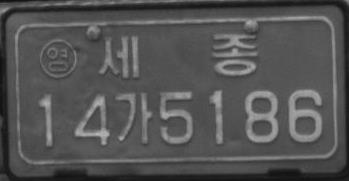1: (203, 88, 233, 145), (34, 92, 63, 148)
4: (72, 92, 112, 146)
5: (158, 89, 194, 146)
6: (287, 88, 323, 143)
8: (242, 88, 279, 144)
가: (114, 91, 153, 145)
세종_D: (97, 32, 258, 77)
영: (39, 37, 77, 80)
